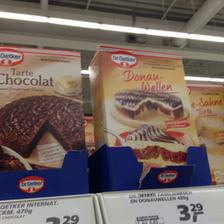cake: (85, 46, 201, 171), (1, 47, 82, 187)
